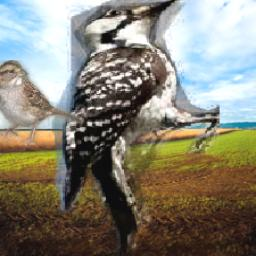Sparrow: (0, 60, 83, 145)
Woodpecker: (49, 0, 221, 256)
